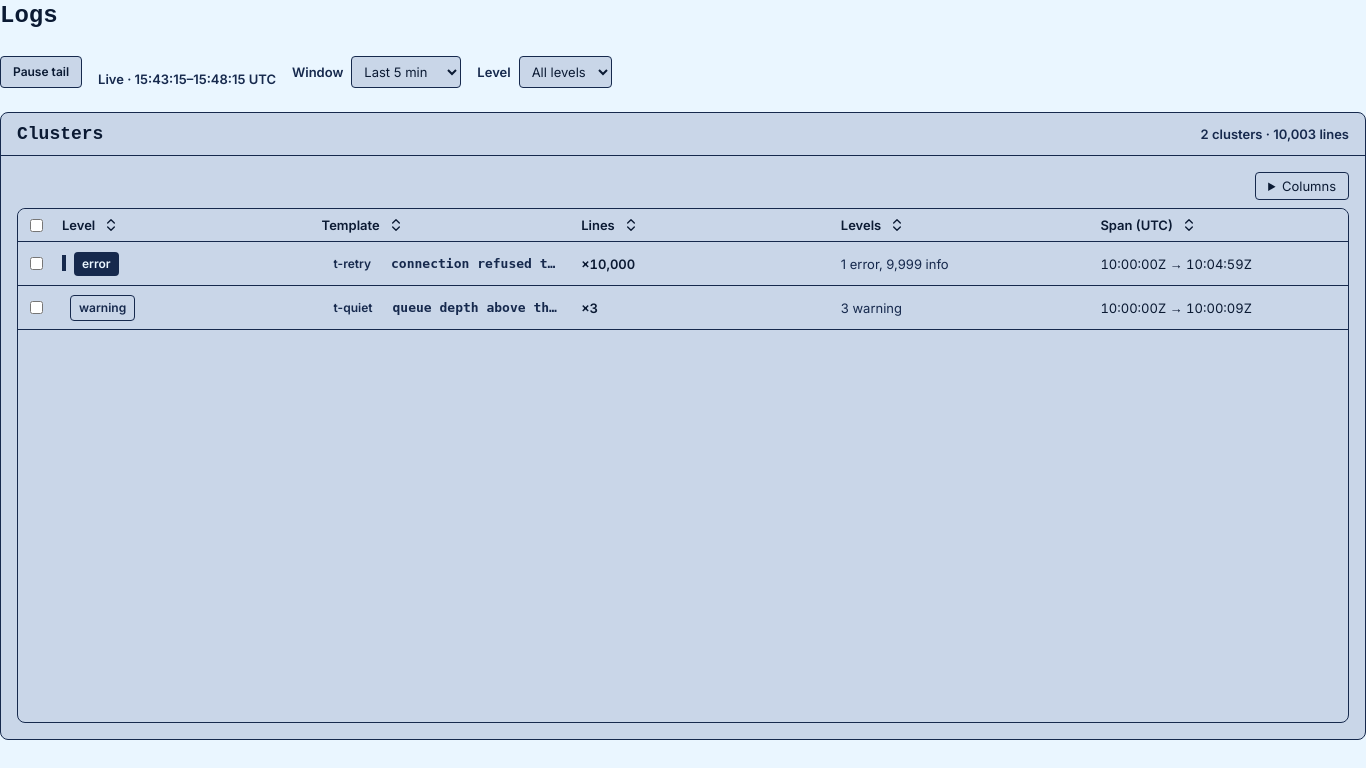
Test case: LogsPage › says which end a truncated expansion kept
Click the button "t-retry" at (352, 264), box [322, 248, 383, 280]
(page scrolled)
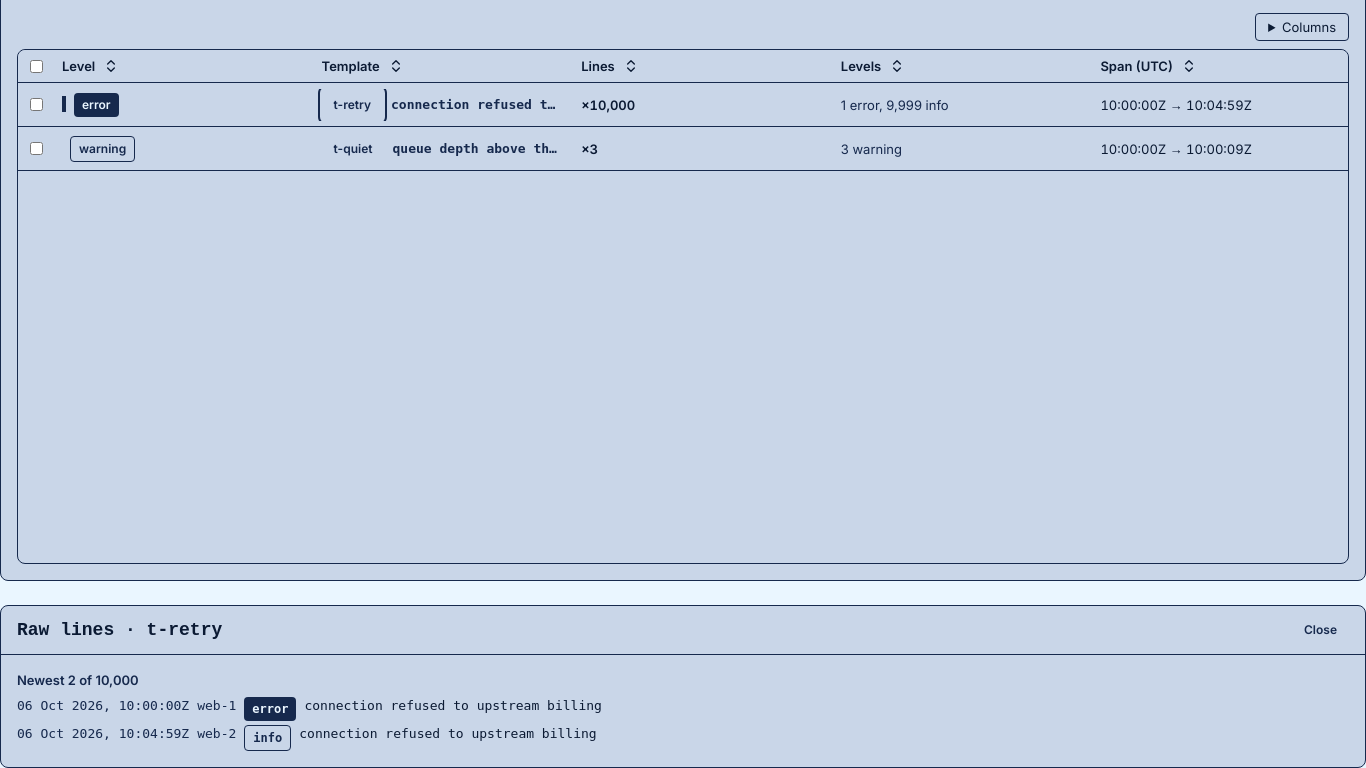
Check: the text "Newest 2 of 10,000" is shown, box [17, 672, 139, 688]
